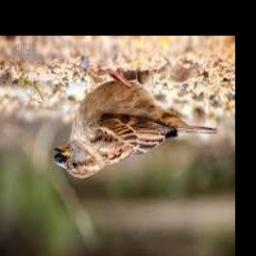Sparrow: (54, 69, 218, 179)
